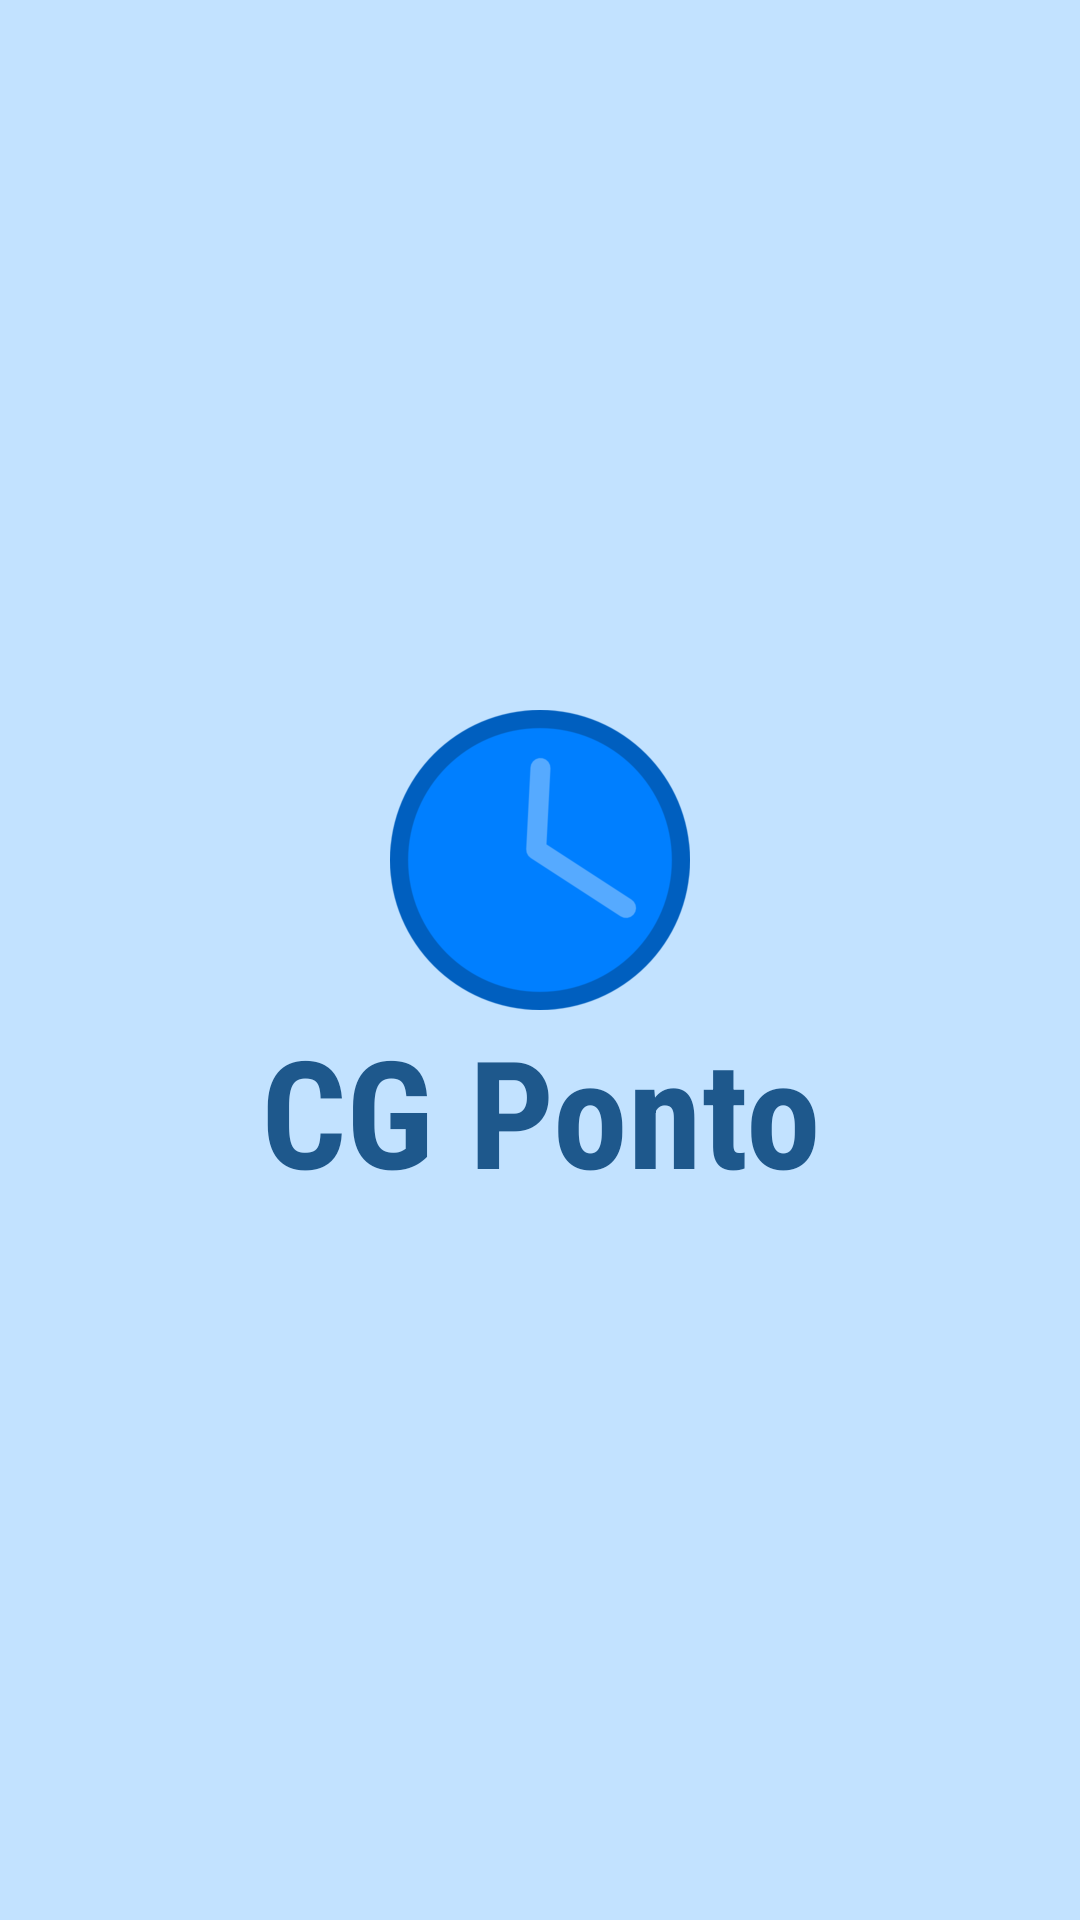

Named icons in this screenshot (1080px×1920px) and their centers, (x=x, y=y):
clock md: (x=540, y=860)
